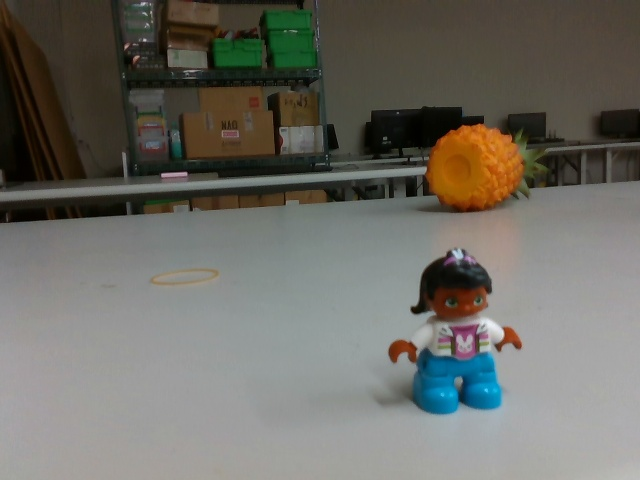people: (388, 245, 525, 418)
pineapple: (425, 124, 547, 215)
